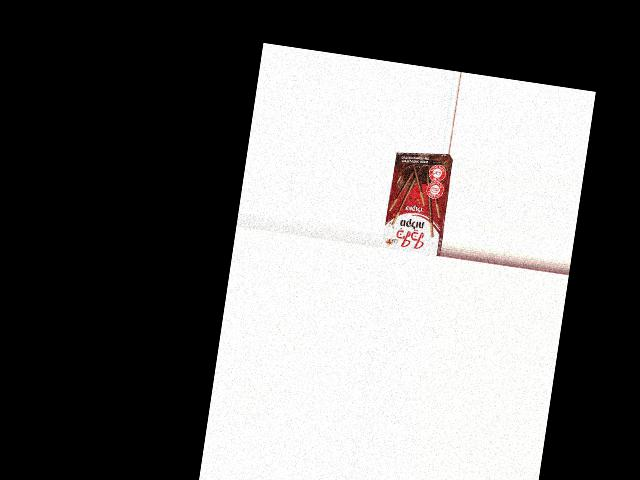chocolate: (380, 153, 453, 256)
